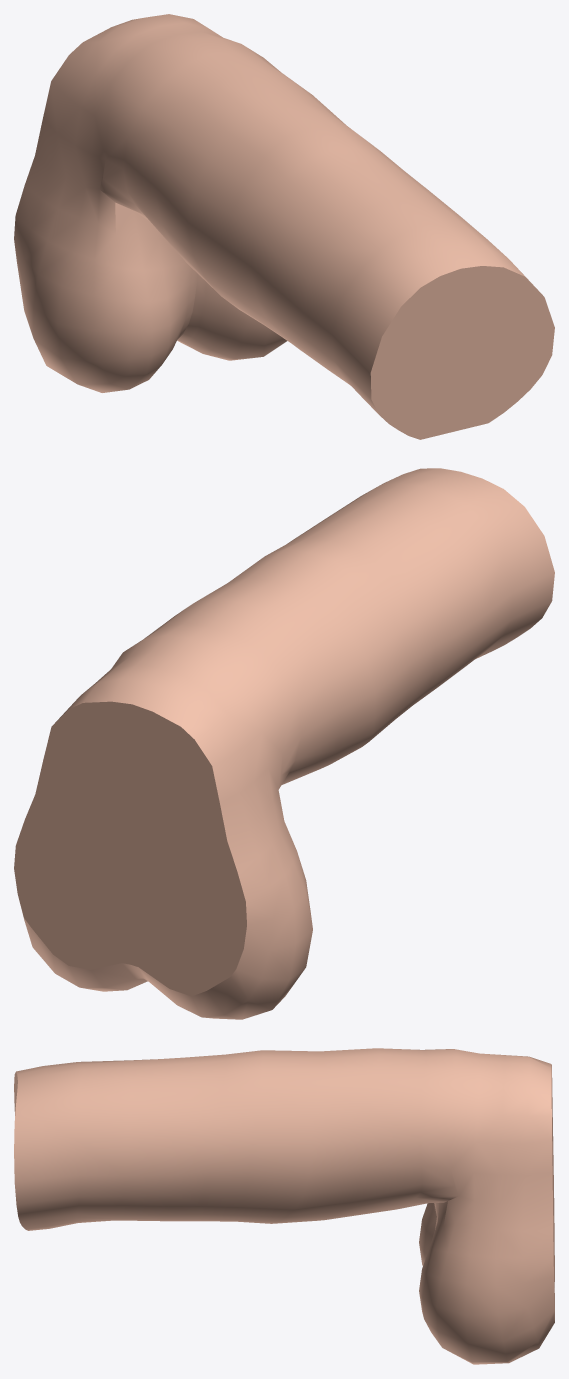
The model's file is NoTipBroken.fbx.
3 views of the same model, one above another, from view 1: azimuth 30°, elevation 25°; view 2: azimuth 150°, elevation 25°; view 3: azimuth 270°, elevation 25° (orthographic). The views are drawn at different scales.
Visible parts, largest first — view 1: BallsNoTip; view 2: BallsNoTip; view 3: BallsNoTip.
Part boxes in pixels (x1,y1,x2,y2): BallsNoTip: (14,14,554,439); BallsNoTip: (14,468,554,1019); BallsNoTip: (14,1048,554,1364).
Size of the model in its own units: 6.99 by 8.8 by 15.4.
